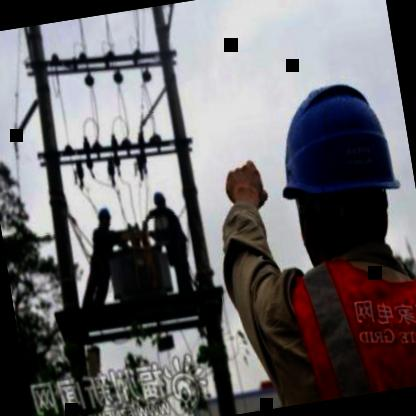helmet: (251, 48, 416, 294)
